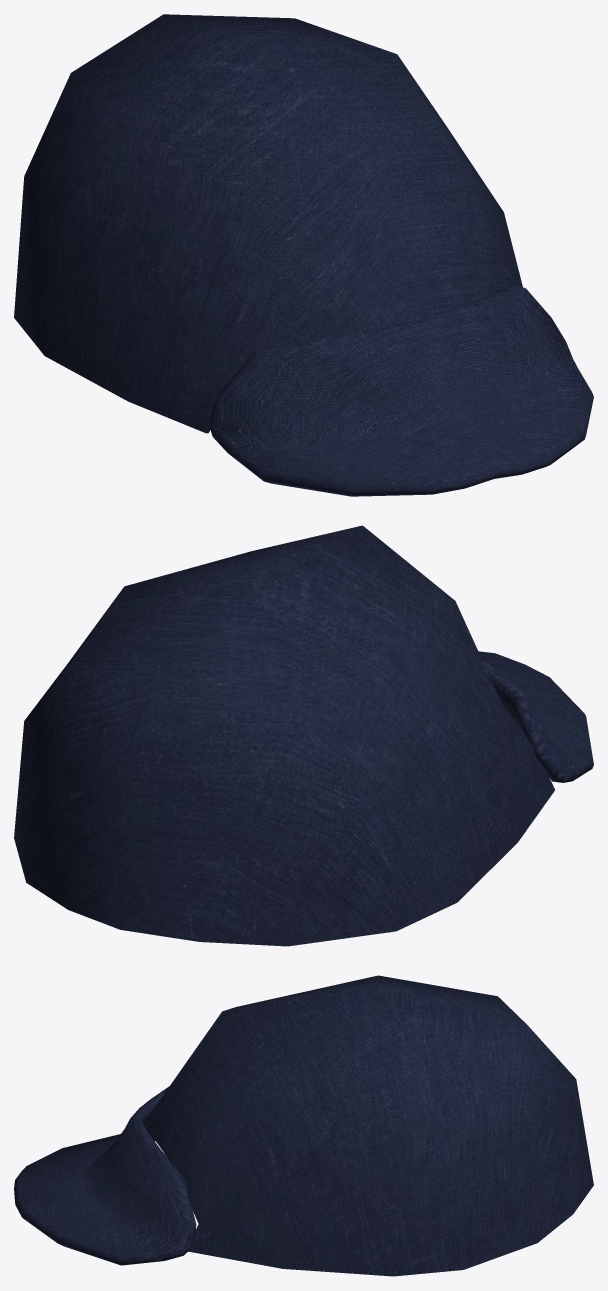
The model's file is cap.glb.
3 renders of one model, top to bottom at view 1: azimuth 30°, elevation 25°; view 2: azimuth 150°, elevation 25°; view 3: azimuth 270°, elevation 25°, orthographic. The views are drawn at different scales.
Visible parts, largest first — view 1: cap; view 2: cap; view 3: cap.
Boxes of the visible parts, <box> form: cap: <box>14,14,593,496</box>; cap: <box>14,525,593,946</box>; cap: <box>14,975,593,1276</box>.
Size of the model in its own units: 0.1177 by 0.0779 by 0.1869.
Materials: 1 (1 with a texture image).
